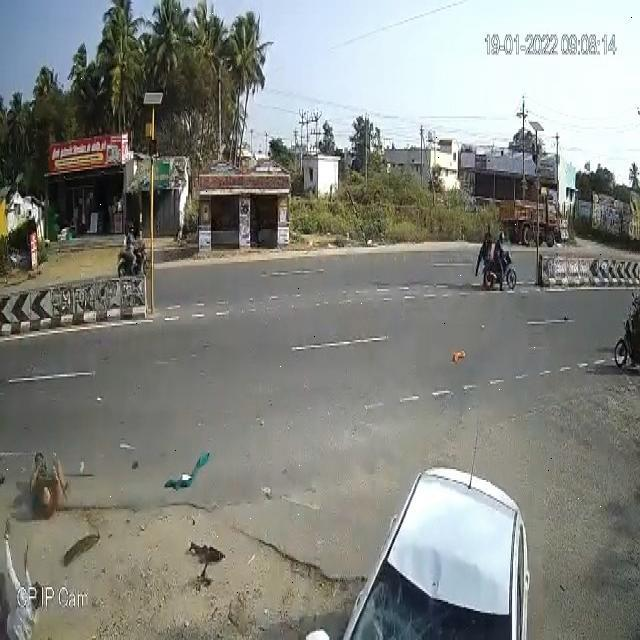accident: (19, 448, 87, 516)
